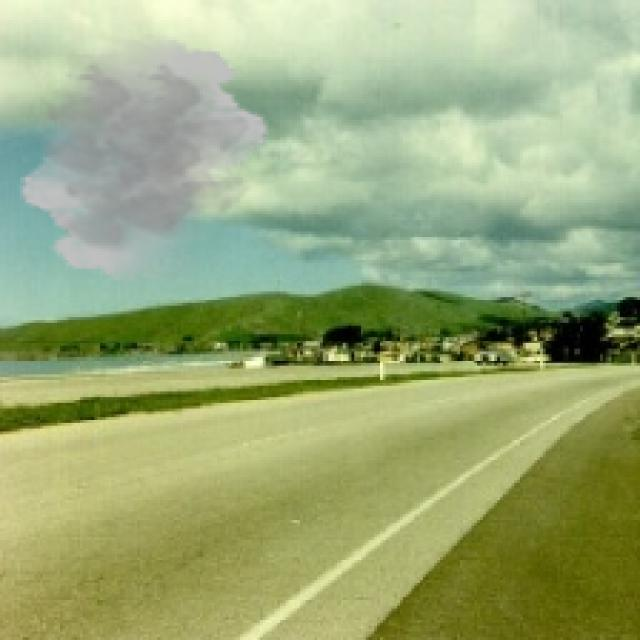smoke: (17, 34, 272, 286)
